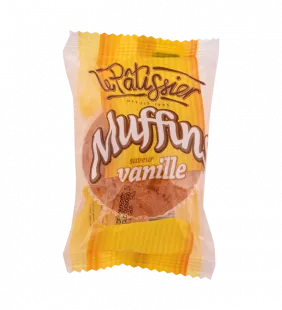LE PATISSIER: (52, 20, 228, 290)
